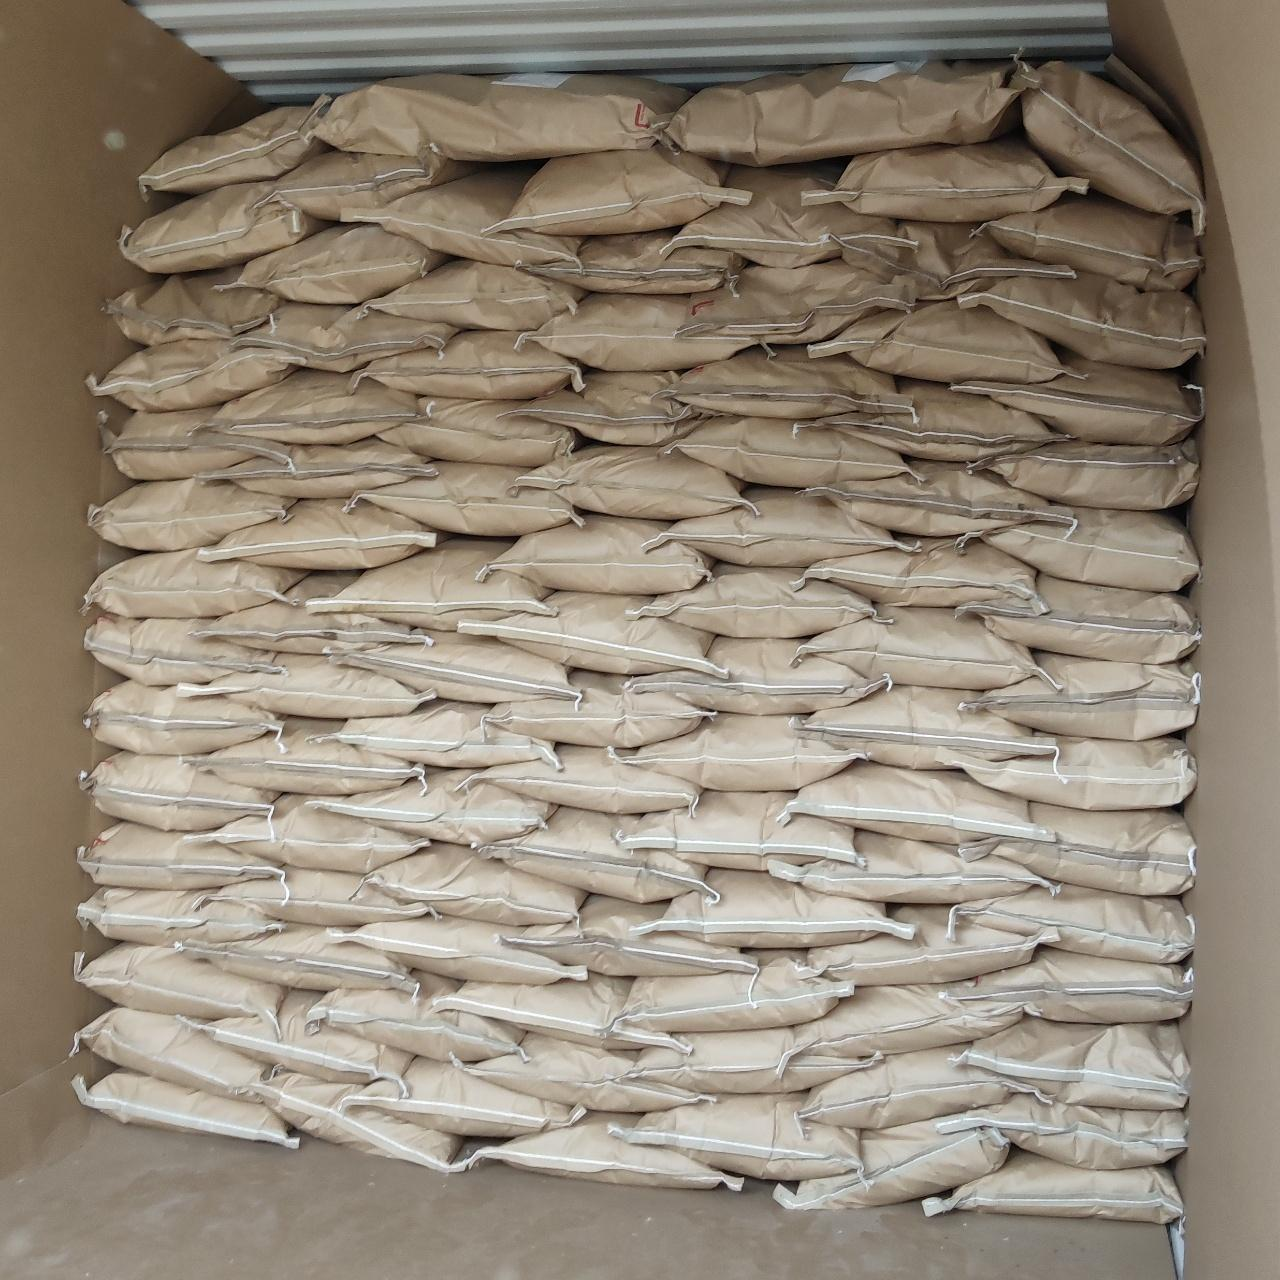sack: (658, 60, 1028, 164), (316, 73, 688, 161), (1020, 62, 1206, 230), (340, 165, 579, 267), (672, 164, 908, 266), (808, 136, 1085, 222), (958, 272, 1204, 366), (474, 808, 716, 900), (490, 148, 744, 236), (454, 1112, 742, 1190), (306, 540, 551, 629), (954, 352, 1201, 440), (962, 802, 1194, 894), (960, 1017, 1189, 1110), (964, 572, 1198, 662), (798, 380, 1062, 459), (422, 976, 690, 1054), (790, 762, 1042, 844), (618, 1094, 855, 1180), (195, 992, 408, 1088), (976, 195, 1200, 286), (808, 302, 1062, 382), (798, 686, 1051, 765), (462, 592, 712, 672), (808, 459, 1073, 535), (644, 488, 894, 566), (260, 1073, 462, 1170), (772, 832, 1050, 903), (626, 638, 890, 712), (309, 972, 524, 1062), (654, 870, 900, 948), (506, 896, 753, 974), (964, 652, 1198, 734), (678, 260, 912, 342), (778, 1122, 1006, 1206), (464, 1034, 712, 1110), (940, 1090, 1186, 1166), (924, 1150, 1182, 1223), (949, 881, 1192, 958), (840, 222, 1074, 300), (618, 792, 855, 870), (802, 538, 1042, 614), (802, 608, 1036, 686), (944, 949, 1192, 1022), (622, 952, 852, 1030), (198, 576, 428, 654), (308, 770, 552, 844), (799, 906, 1034, 982), (324, 914, 586, 982), (618, 714, 858, 788), (982, 508, 1198, 590), (482, 515, 710, 592), (198, 796, 428, 872), (799, 1048, 1022, 1126), (120, 184, 324, 270), (628, 566, 876, 636), (352, 1058, 583, 1133), (76, 1068, 297, 1146), (368, 844, 583, 924), (962, 734, 1194, 806), (186, 719, 422, 790), (74, 1008, 270, 1094), (670, 346, 908, 416), (226, 226, 445, 302), (350, 462, 580, 535), (663, 418, 908, 486), (524, 294, 756, 366), (787, 983, 1022, 1054), (488, 672, 710, 745), (518, 445, 744, 518), (336, 632, 570, 702), (626, 1028, 878, 1092), (139, 104, 324, 192), (459, 745, 700, 812), (74, 944, 284, 1020), (968, 440, 1198, 508), (200, 501, 438, 566), (178, 654, 428, 716), (352, 332, 583, 399), (356, 260, 583, 328), (230, 302, 454, 370), (182, 926, 414, 990), (80, 754, 274, 830), (324, 702, 556, 765), (271, 150, 479, 220), (504, 372, 704, 444), (84, 550, 300, 614), (90, 481, 294, 549), (86, 682, 282, 753), (376, 399, 578, 467), (216, 370, 414, 440), (86, 617, 284, 685), (104, 408, 292, 478), (198, 440, 430, 496), (524, 232, 742, 292), (79, 822, 280, 886), (88, 343, 294, 406), (200, 869, 433, 924), (105, 270, 280, 342), (80, 888, 280, 946)
